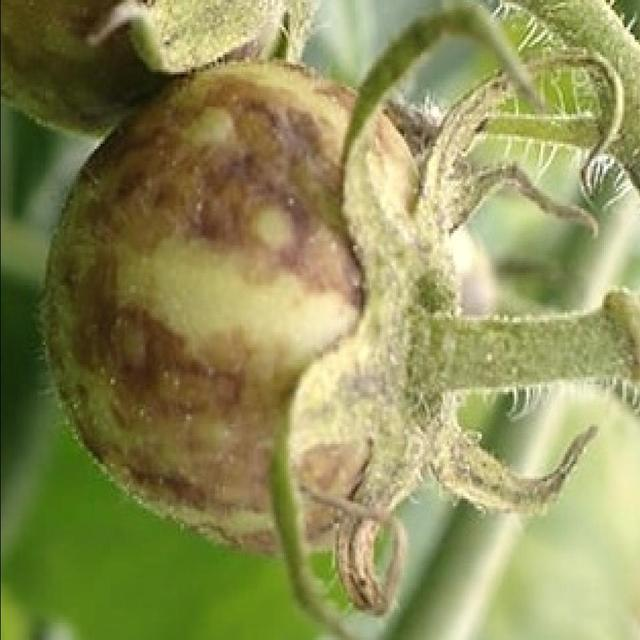Spotted wilt Virus Fruit: (10, 150, 154, 512)
